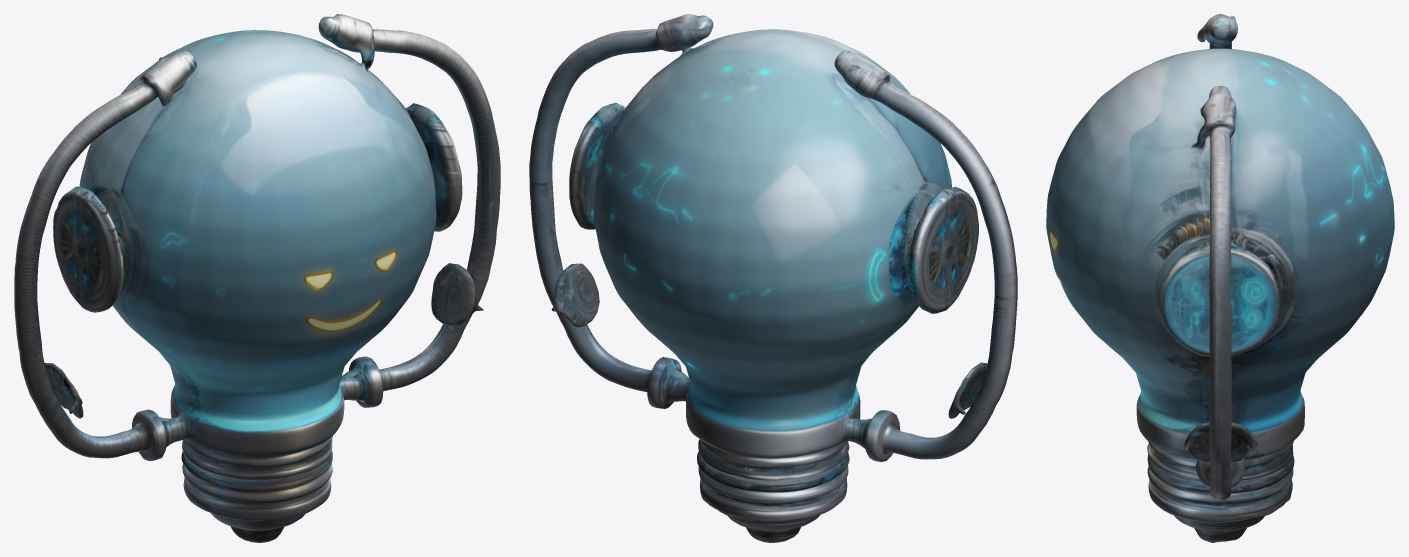
File: a_light_bulb_emoji_ic_0223131922_refine.fbx
3 views of the same model, side by side, from view 1: azimuth 30°, elevation 25°; view 2: azimuth 150°, elevation 25°; view 3: azimuth 270°, elevation 25° (orthographic). The views are drawn at different scales.
Parts seen in each view (by area): view 1: Mesh_0; view 2: Mesh_0; view 3: Mesh_0.
Boxes of the visible parts, x1,y1,x2,y2 form: Mesh_0: (14, 14, 500, 542); Mesh_0: (529, 14, 1017, 542); Mesh_0: (1046, 14, 1394, 542).
Size of the model in its own units: 198 by 196 by 128.
1 material, 1 textured.
